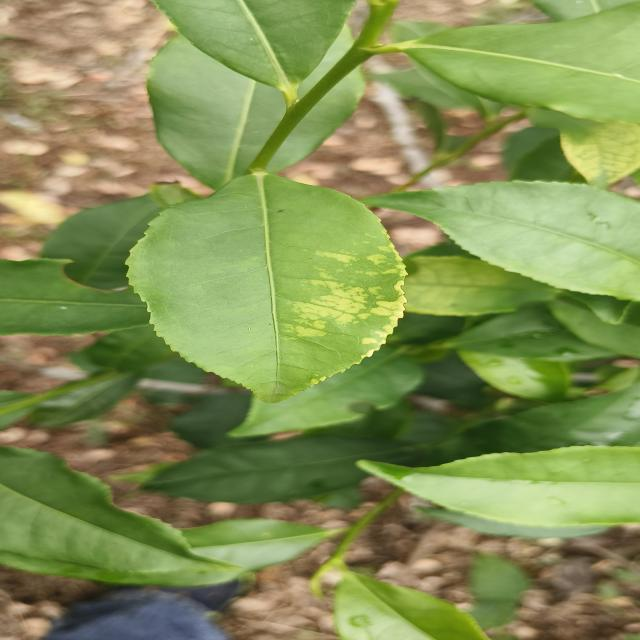Leaf: (128, 174, 405, 403), (367, 181, 640, 301), (377, 2, 640, 123), (0, 447, 228, 580), (358, 446, 640, 527), (154, 0, 354, 106), (147, 36, 285, 189), (143, 435, 418, 504), (229, 346, 422, 437), (432, 383, 640, 464), (41, 194, 165, 290), (0, 259, 150, 335), (334, 571, 488, 640), (441, 303, 618, 361), (270, 71, 364, 172), (404, 256, 555, 316), (529, 108, 640, 188), (181, 518, 342, 572), (31, 373, 140, 428), (458, 351, 569, 402), (469, 552, 530, 629), (306, 31, 350, 87)
